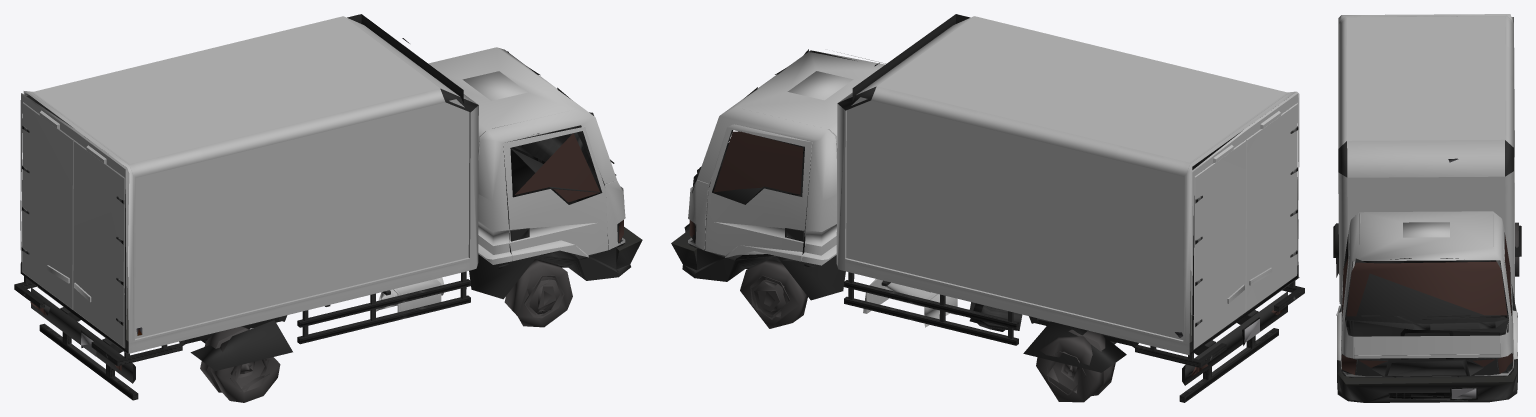
Rendered from box-truck.lod0.glb.
3 views of the same model, side by side, from view 1: azimuth 30°, elevation 25°; view 2: azimuth 150°, elevation 25°; view 3: azimuth 270°, elevation 25° (orthographic). The views are drawn at different scales.
Visible parts, largest first — view 1: LCT300095_Body_lct3000_Bodymat_0, LCT300095_Bottom_UCB_BOTTOM_0; view 2: LCT300095_Body_lct3000_Bodymat_0, LCT300095_Bottom_UCB_BOTTOM_0; view 3: LCT300095_Body_lct3000_Bodymat_0, LCT300095_Bottom_UCB_BOTTOM_0.
Part boxes in pixels (bbox=[...]): LCT300095_Body_lct3000_Bodymat_0: bbox=[20, 16, 625, 402]; LCT300095_Bottom_UCB_BOTTOM_0: bbox=[14, 14, 642, 400]; LCT300095_Body_lct3000_Bodymat_0: bbox=[688, 16, 1299, 402]; LCT300095_Bottom_UCB_BOTTOM_0: bbox=[671, 14, 1304, 402]; LCT300095_Body_lct3000_Bodymat_0: bbox=[1336, 15, 1519, 398]; LCT300095_Bottom_UCB_BOTTOM_0: bbox=[1333, 14, 1521, 402].
Bounding box in the file's own units: 6.02 × 2.84 × 2.26.
Materials: 2 (1 with a texture image).
